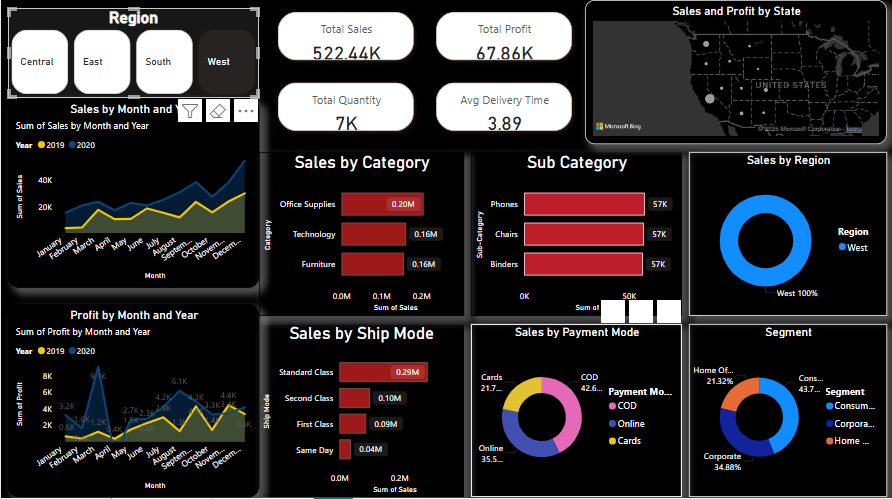

The page's visual inventory and layout, read from the dashboard file:
{"tool":"powerbi","page":{"name":"Dashboard","canvas":[1280,720],"ordinal":0},"visuals":[{"type":"advancedSlicerVisual","title":"Region","fields":{"Values":["SuperStoreSales.Region"]},"box":[9.9,11.3,358.6,129],"z":0},{"type":"areaChart","title":" Sales by Month and Year","fields":{"Category":["SuperStoreSales.Order Date.Variation.Date Hierarchy.Month"],"Y":["Sum(SuperStoreSales.Sales)"],"Series":["SuperStoreSales.Order Date.Variation.Date Hierarchy.Year"]},"box":[9.9,140.3,358.6,270.7],"z":1000},{"type":"areaChart","title":"Profit by Month and Year","fields":{"Category":["SuperStoreSales.Order Date.Variation.Date Hierarchy.Month"],"Series":["SuperStoreSales.Order Date.Variation.Date Hierarchy.Year"],"Y":["Sum(SuperStoreSales.Profit)"]},"box":[10,434.3,358.6,275.7],"z":2000},{"type":"cardVisual","fields":{"Data":["Sum(SuperStoreSales.Sales)","Sum(SuperStoreSales.Profit)","Sum(SuperStoreSales.Quantity)","Avg(SuperStoreSales.Avg Delivery Time)"]},"box":[378.6,0,455.7,205.7],"z":3000},{"type":"clusteredBarChart","title":"Sales by Category","fields":{"Category":["SuperStoreSales.Category"],"Y":["Sum(SuperStoreSales.Sales)"]},"box":[368.6,217.1,292.9,234.3],"z":4000},{"type":"clusteredBarChart","title":"Sub Category","fields":{"Y":["Sum(SuperStoreSales.Sales)"],"Category":["SuperStoreSales.Sub-Category"]},"box":[671.4,217.1,301.4,234.3],"z":5000},{"type":"clusteredBarChart","title":"Sales by Ship Mode","fields":{"Y":["Sum(SuperStoreSales.Sales)"],"Category":["SuperStoreSales.Ship Mode"]},"box":[368.6,462.9,292.9,247.1],"z":6000},{"type":"donutChart","title":" Sales by Payment Mode","fields":{"Category":["SuperStoreSales.Payment Mode"],"Y":["Sum(SuperStoreSales.Sales)"]},"box":[671.4,462.9,301.4,247.1],"z":7000},{"type":"donutChart","title":"Segment","fields":{"Y":["Sum(SuperStoreSales.Sales)"],"Category":["SuperStoreSales.Segment"]},"box":[982.9,462.9,282.9,247.1],"z":8000},{"type":"donutChart","title":" Sales by Region","fields":{"Y":["Sum(SuperStoreSales.Sales)"],"Category":["SuperStoreSales.Region"]},"box":[982.9,217.1,282.9,234.3],"z":9000},{"type":"map","title":"Sales and  Profit by State","fields":{"Category":["SuperStoreSales.State"],"Size":["Sum(SuperStoreSales.Sales)"]},"box":[834.3,0,431.4,205.7],"z":10000}]}

Visuals, with their boxes in screenshot pixels (x1, y1, x2, y2), scaled from the page's 1280x720 canvas onto the 892x499 screenshot:
"Region" advancedSlicerVisual: bbox=(7, 8, 257, 97)
" Sales by Month and Year" areaChart: bbox=(7, 97, 257, 285)
"Profit by Month and Year" areaChart: bbox=(7, 301, 257, 492)
cardVisual - Sum(SuperStoreSales.Sales) x Sum(SuperStoreSales.Profit): bbox=(264, 0, 581, 143)
"Sales by Category" clusteredBarChart: bbox=(257, 150, 461, 313)
"Sub Category" clusteredBarChart: bbox=(468, 150, 678, 313)
"Sales by Ship Mode" clusteredBarChart: bbox=(257, 321, 461, 492)
" Sales by Payment Mode" donutChart: bbox=(468, 321, 678, 492)
"Segment" donutChart: bbox=(685, 321, 882, 492)
" Sales by Region" donutChart: bbox=(685, 150, 882, 313)
"Sales and  Profit by State" map: bbox=(581, 0, 882, 143)
